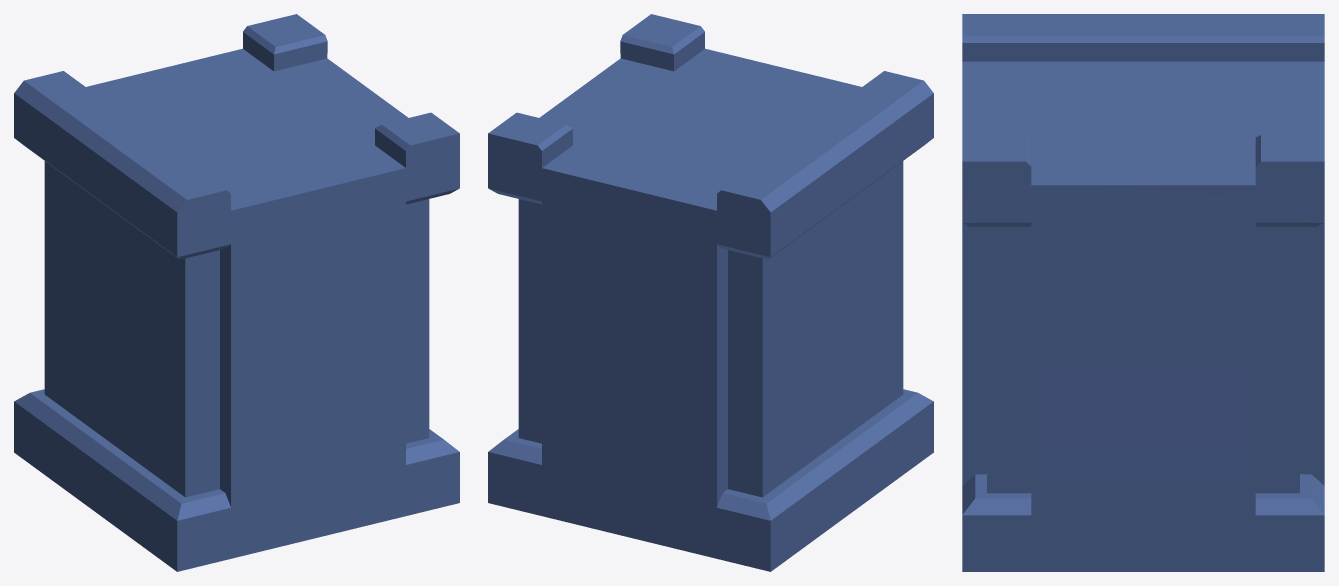
Rendered from Wall_TShape_01.fbx.
3 views of the same model, side by side, from view 1: azimuth 30°, elevation 25°; view 2: azimuth 150°, elevation 25°; view 3: azimuth 270°, elevation 25° (orthographic). The views are drawn at different scales.
Parts seen in each view (by area): view 1: Wall_TShape_01; view 2: Wall_TShape_01; view 3: Wall_TShape_01.
Part boxes in pixels (left/top/right/bottom): Wall_TShape_01: left=14, top=14, right=459, bottom=571; Wall_TShape_01: left=488, top=14, right=933, bottom=571; Wall_TShape_01: left=962, top=14, right=1324, bottom=571.
Bounding box in the file's own units: 160 × 200 × 160.
